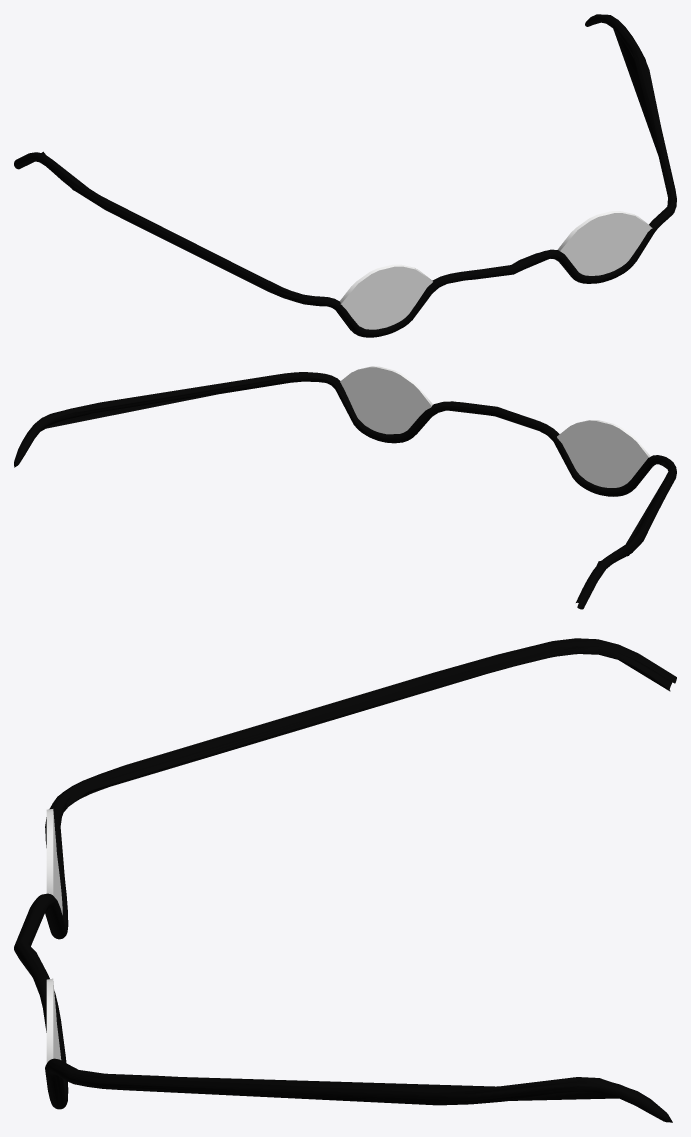
3 renders of one model, top to bottom at view 1: azimuth 30°, elevation 25°; view 2: azimuth 150°, elevation 25°; view 3: azimuth 270°, elevation 25°, orthographic. The views are drawn at different scales.
Parts seen in each view (by area): view 1: glassesReading2; view 2: glassesReading2; view 3: glassesReading2.
Part boxes in pixels (box(x1,y1,x2,y2)): glassesReading2: box(14, 14, 676, 337); glassesReading2: box(14, 366, 676, 609); glassesReading2: box(14, 638, 676, 1122).
Size of the model in its own units: 0.4481 by 0.0745 by 0.2818.
Materials: 2 (1 with a texture image).
